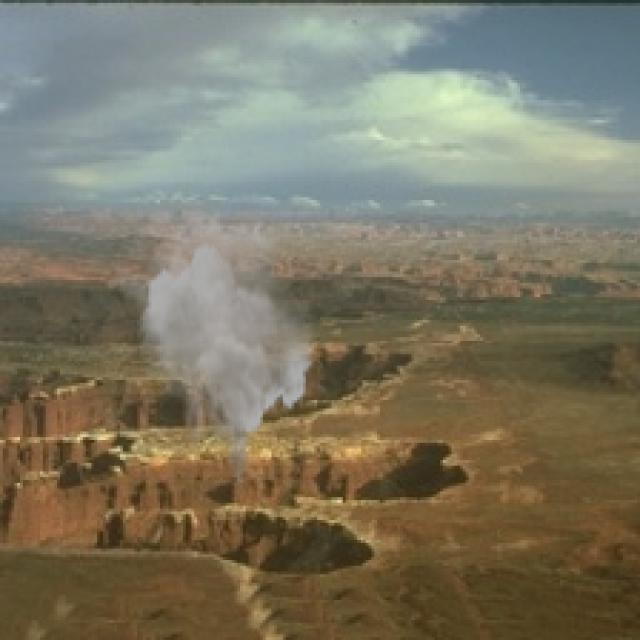smoke: (112, 206, 317, 488)
